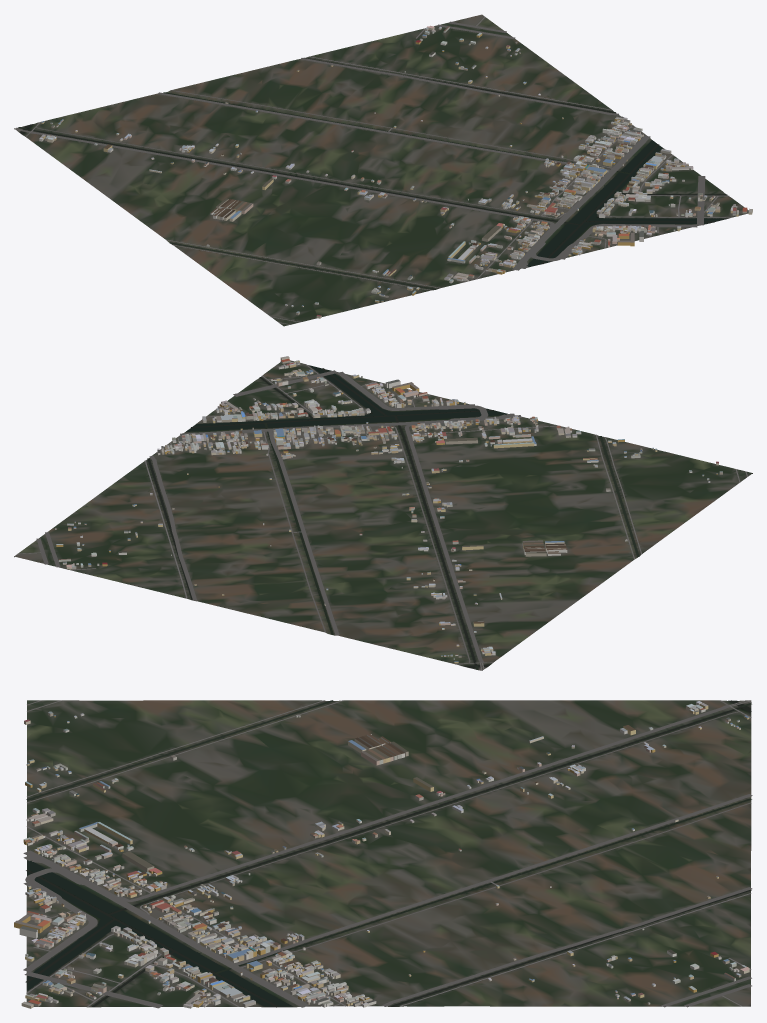
3 views of the same model, one above another, from view 1: azimuth 30°, elevation 25°; view 2: azimuth 150°, elevation 25°; view 3: azimuth 270°, elevation 25° (orthographic). The views are drawn at different scales.
Parts seen in each view (by area): view 1: ground, buildings, roads, water; view 2: ground, buildings, roads, water; view 3: ground, buildings, roads, water.
Part boxes in pixels (bbox=[...]): ground: bbox=[14, 14, 748, 326]; buildings: bbox=[39, 25, 752, 318]; roads: bbox=[15, 17, 730, 324]; water: bbox=[18, 57, 727, 289]; ground: bbox=[14, 360, 752, 670]; buildings: bbox=[55, 356, 722, 663]; roads: bbox=[17, 364, 747, 670]; water: bbox=[147, 365, 639, 669]; ground: bbox=[26, 700, 751, 1007]; buildings: bbox=[14, 701, 749, 1008]; roads: bbox=[23, 700, 752, 1008]; water: bbox=[25, 700, 751, 1007].
Bounding box in the file's own units: 1410 × 19.42 × 1429.
